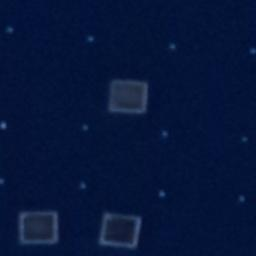square_cover: (95, 206, 143, 251), (15, 206, 64, 248), (105, 75, 151, 116)
